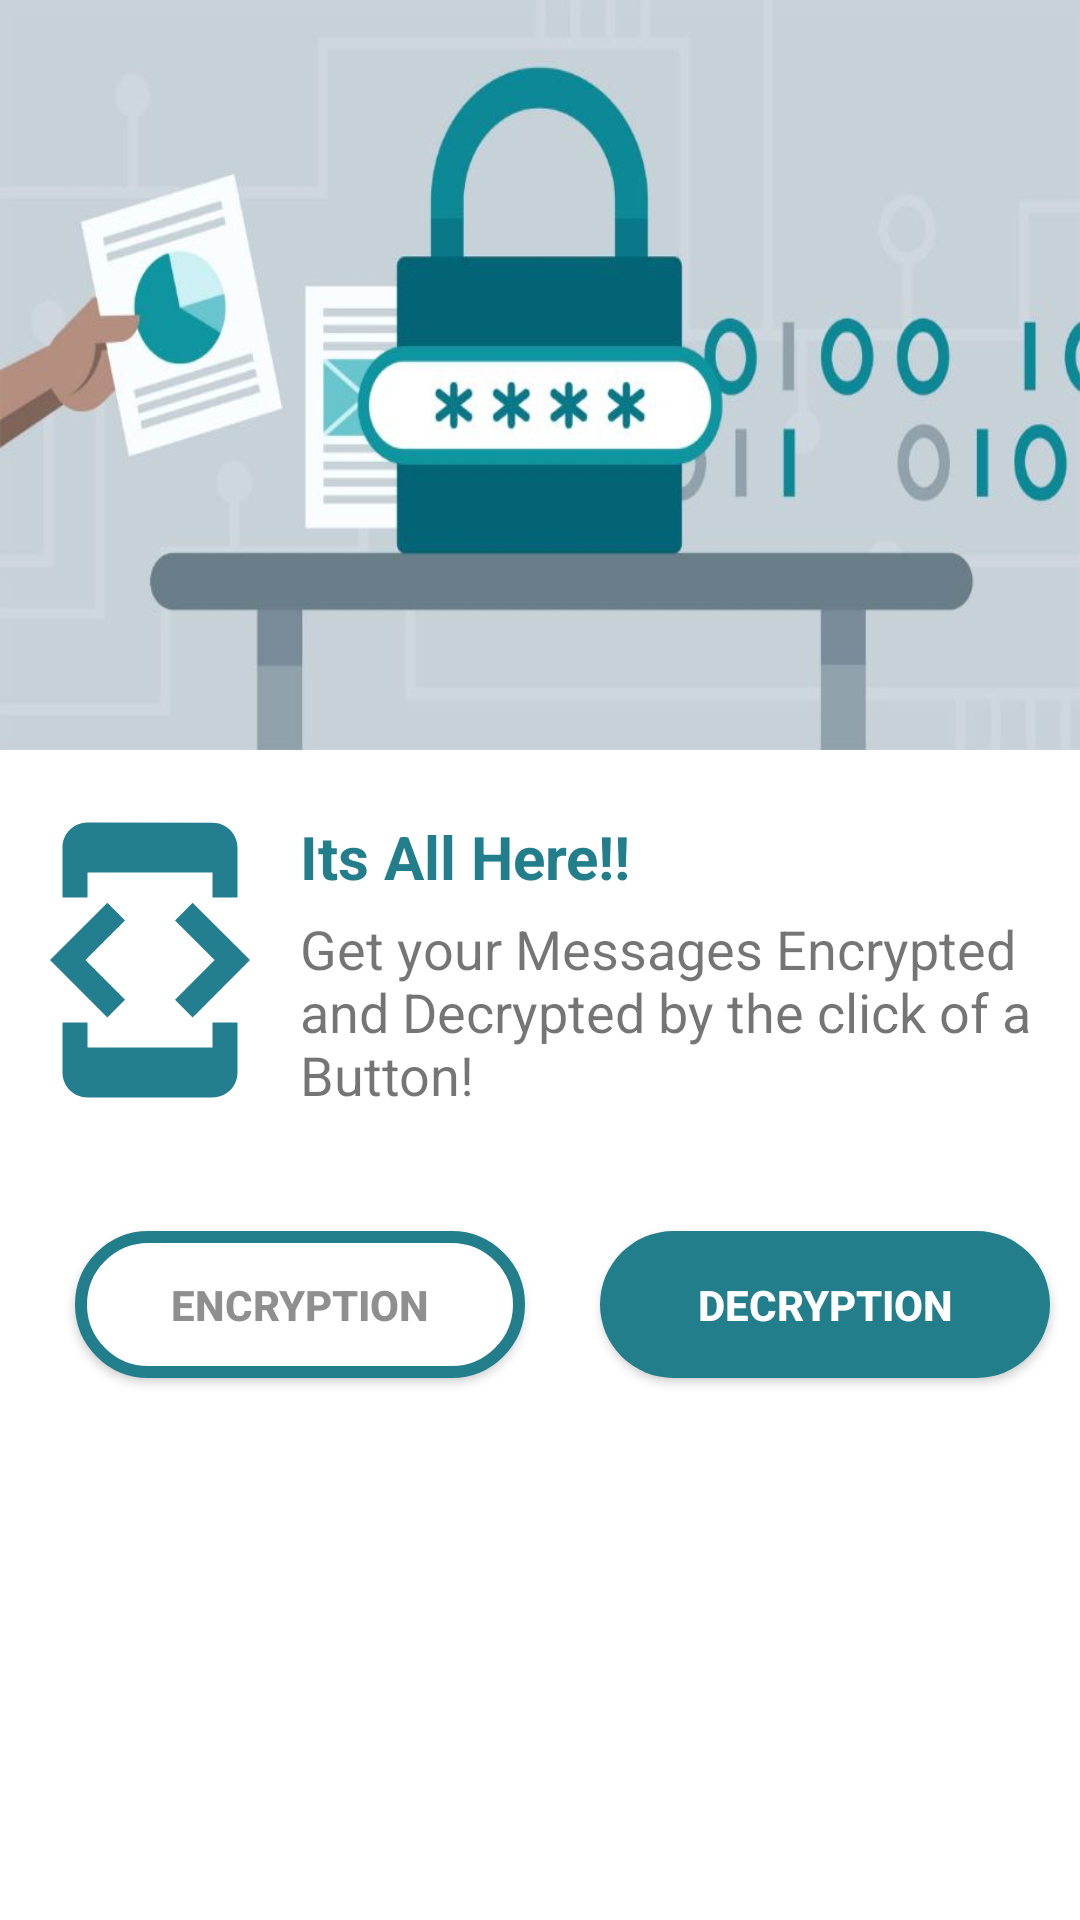

Icon bounding boxes for this 1080w x 1920h phone screenshot, format {"left": x1, "top": y1, "right": x2, "bottom": y2}:
developer mode: {"left": 50, "top": 822, "right": 250, "bottom": 1098}
